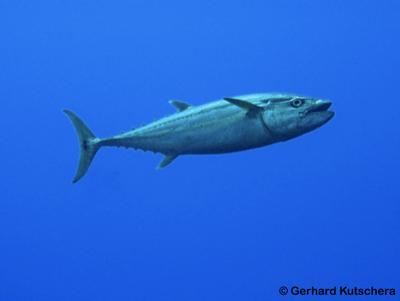Scombridae -Tunas-: (61, 89, 338, 183)
